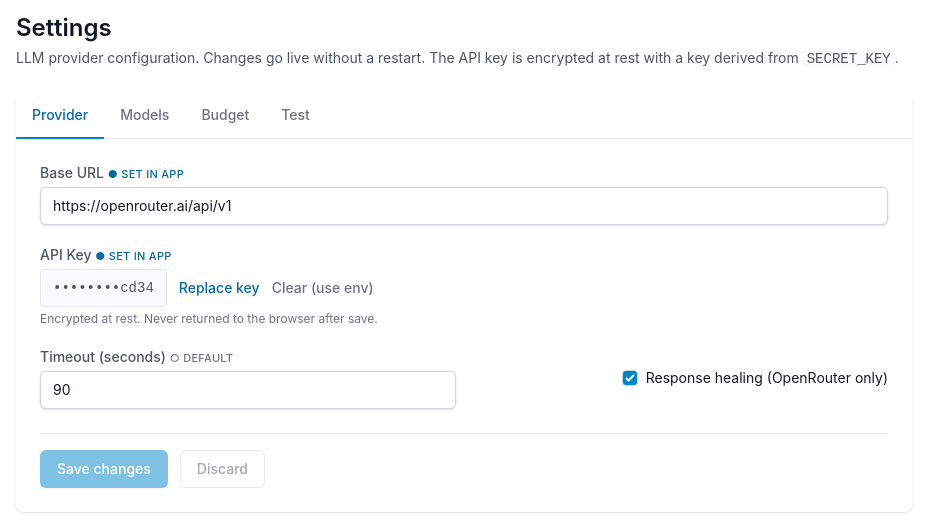
Test: SettingsPage › shows the masked API key and reveals an edit input on Replace key
Expected: the text "••••••••cd34" is shown, 40,269 -> 167,307
What coordinates should you click on to do the following:
click the button "Replace key"
I would click on:
 (219, 288)
Its box is 179,278 -> 260,298.
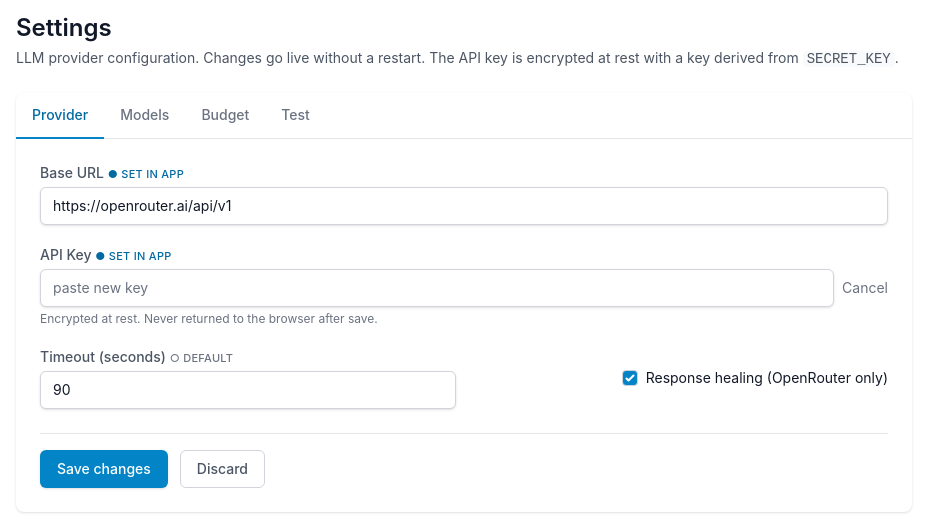
Expected: the password field with placeholder "paste new key" is shown, 40,269 -> 834,307
Expected: the text "••••••••cd34" is gone
